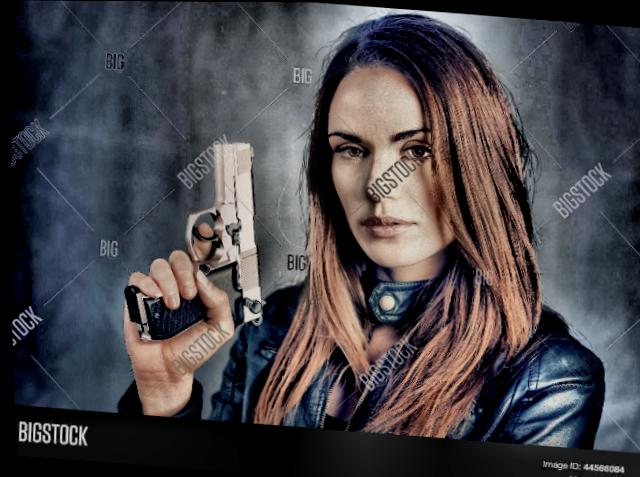pistol: (118, 132, 277, 355)
